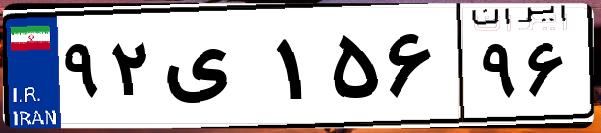1: (270, 28, 330, 110)
2: (110, 28, 158, 98)
5: (330, 28, 385, 110)
6: (385, 28, 445, 110), (525, 38, 570, 115)
9: (57, 26, 110, 100), (475, 38, 525, 113)
ی: (158, 20, 270, 120)
